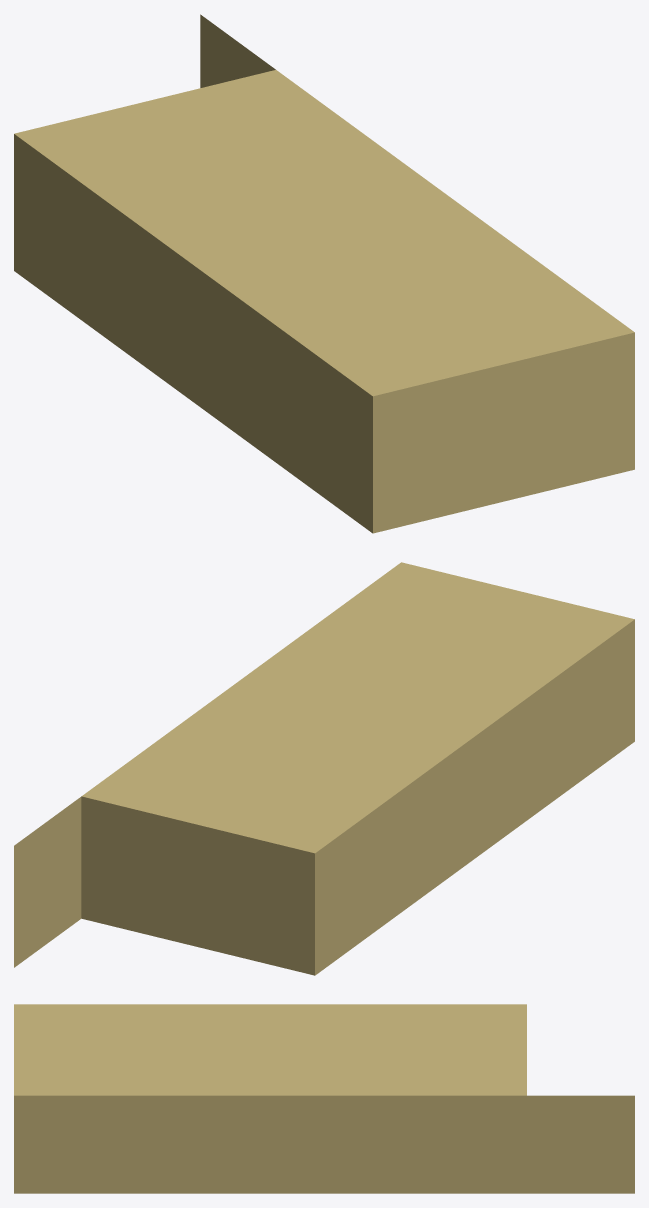
3 renders of one model, top to bottom at view 1: azimuth 30°, elevation 25°; view 2: azimuth 150°, elevation 25°; view 3: azimuth 270°, elevation 25°, orthographic. The views are drawn at different scales.
Visible parts, largest first — view 1: RUN-021-S01-NOG-02; view 2: RUN-021-S01-NOG-02; view 3: RUN-021-S01-NOG-02.
Boxes of the visible parts, <box> form: RUN-021-S01-NOG-02: <box>14,14,634,533</box>; RUN-021-S01-NOG-02: <box>14,562,634,975</box>; RUN-021-S01-NOG-02: <box>14,1004,634,1193</box>.
Size of the model in its own units: 0.09 by 0.045 by 0.2583.
